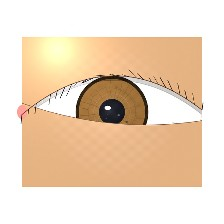hemorrhage_spot: (51, 86, 149, 164)
